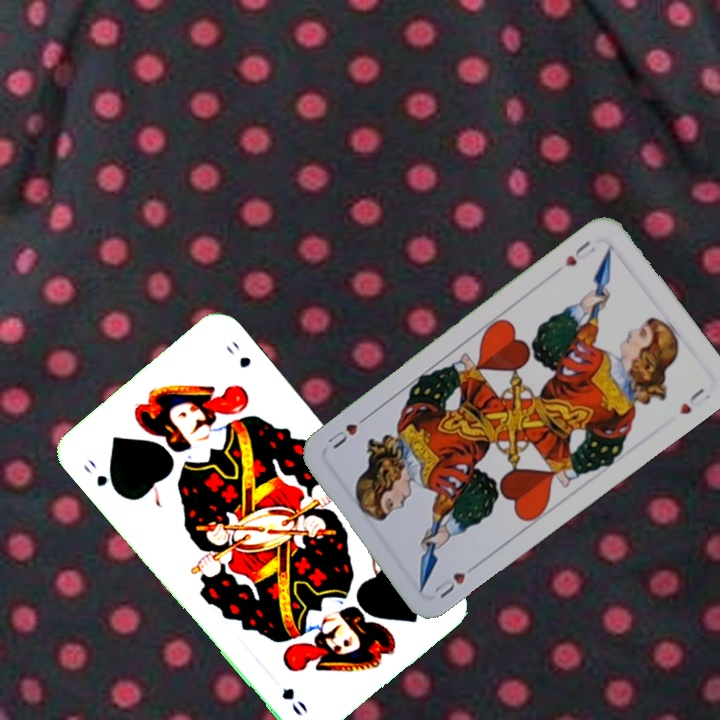GO: (79, 455, 123, 498)
HU: (430, 559, 482, 601), (560, 236, 599, 270)
